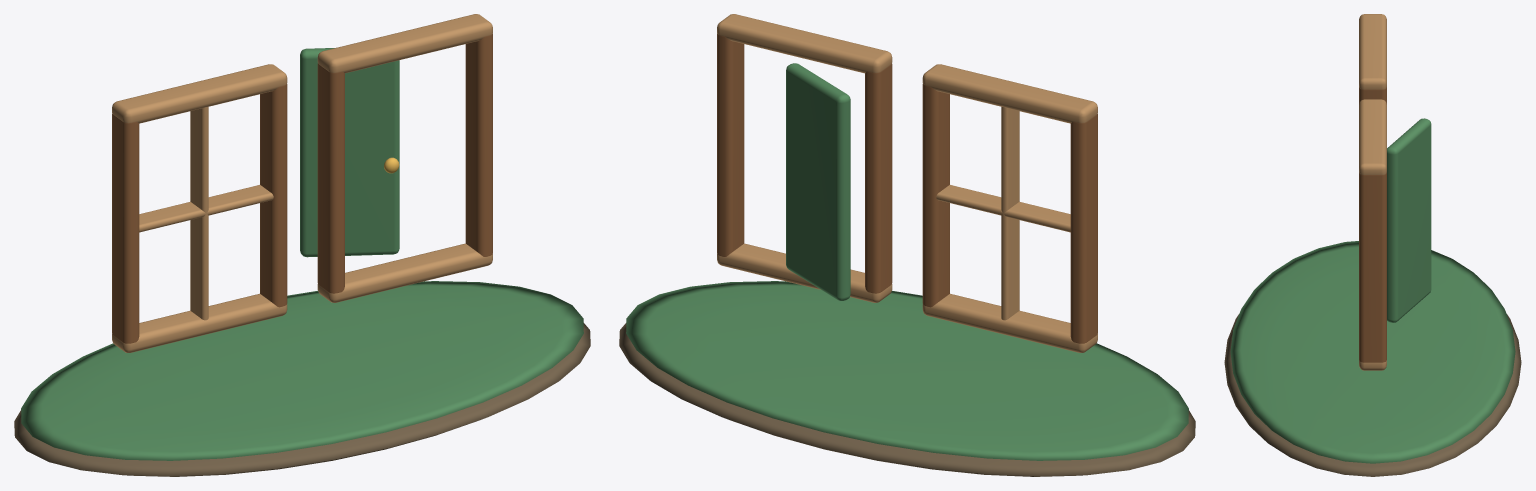
The model's file is window-door.glb.
3 renders of one model, left to right at view 1: azimuth 30°, elevation 25°; view 2: azimuth 150°, elevation 25°; view 3: azimuth 270°, elevation 25°, orthographic. The views are drawn at different scales.
Parts seen in each view (by area): view 1: window-door_surface_01, window-door_surface_02, window-door_surface_03, window-door_surface_00; view 2: window-door_surface_01, window-door_surface_02, window-door_surface_03, window-door_surface_00; view 3: window-door_surface_01, window-door_surface_02, window-door_surface_00, window-door_surface_03.
Part boxes in pixels (box(x1,y1,x2,y2)): window-door_surface_01: box(21, 48, 583, 460); window-door_surface_02: box(112, 33, 492, 343); window-door_surface_03: box(112, 14, 492, 352); window-door_surface_00: box(14, 323, 590, 476); window-door_surface_01: box(626, 63, 1188, 460); window-door_surface_02: box(717, 33, 1097, 343); window-door_surface_03: box(717, 14, 1097, 352); window-door_surface_00: box(619, 323, 1195, 476); window-door_surface_01: box(1230, 118, 1515, 463); window-door_surface_02: box(1359, 87, 1386, 362); window-door_surface_00: box(1224, 314, 1521, 476); window-door_surface_03: box(1359, 14, 1386, 370).
Bounding box in the file's own units: 4.56 × 2.67 × 2.5.
